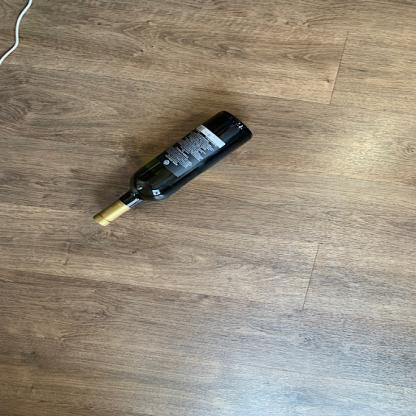trash: (90, 111, 254, 227)
